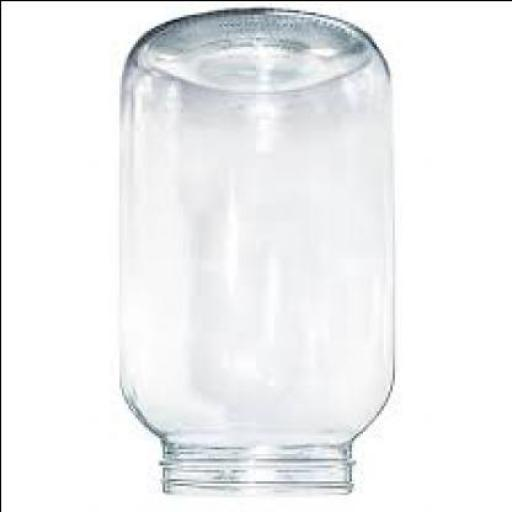glass: (111, 6, 396, 499)
